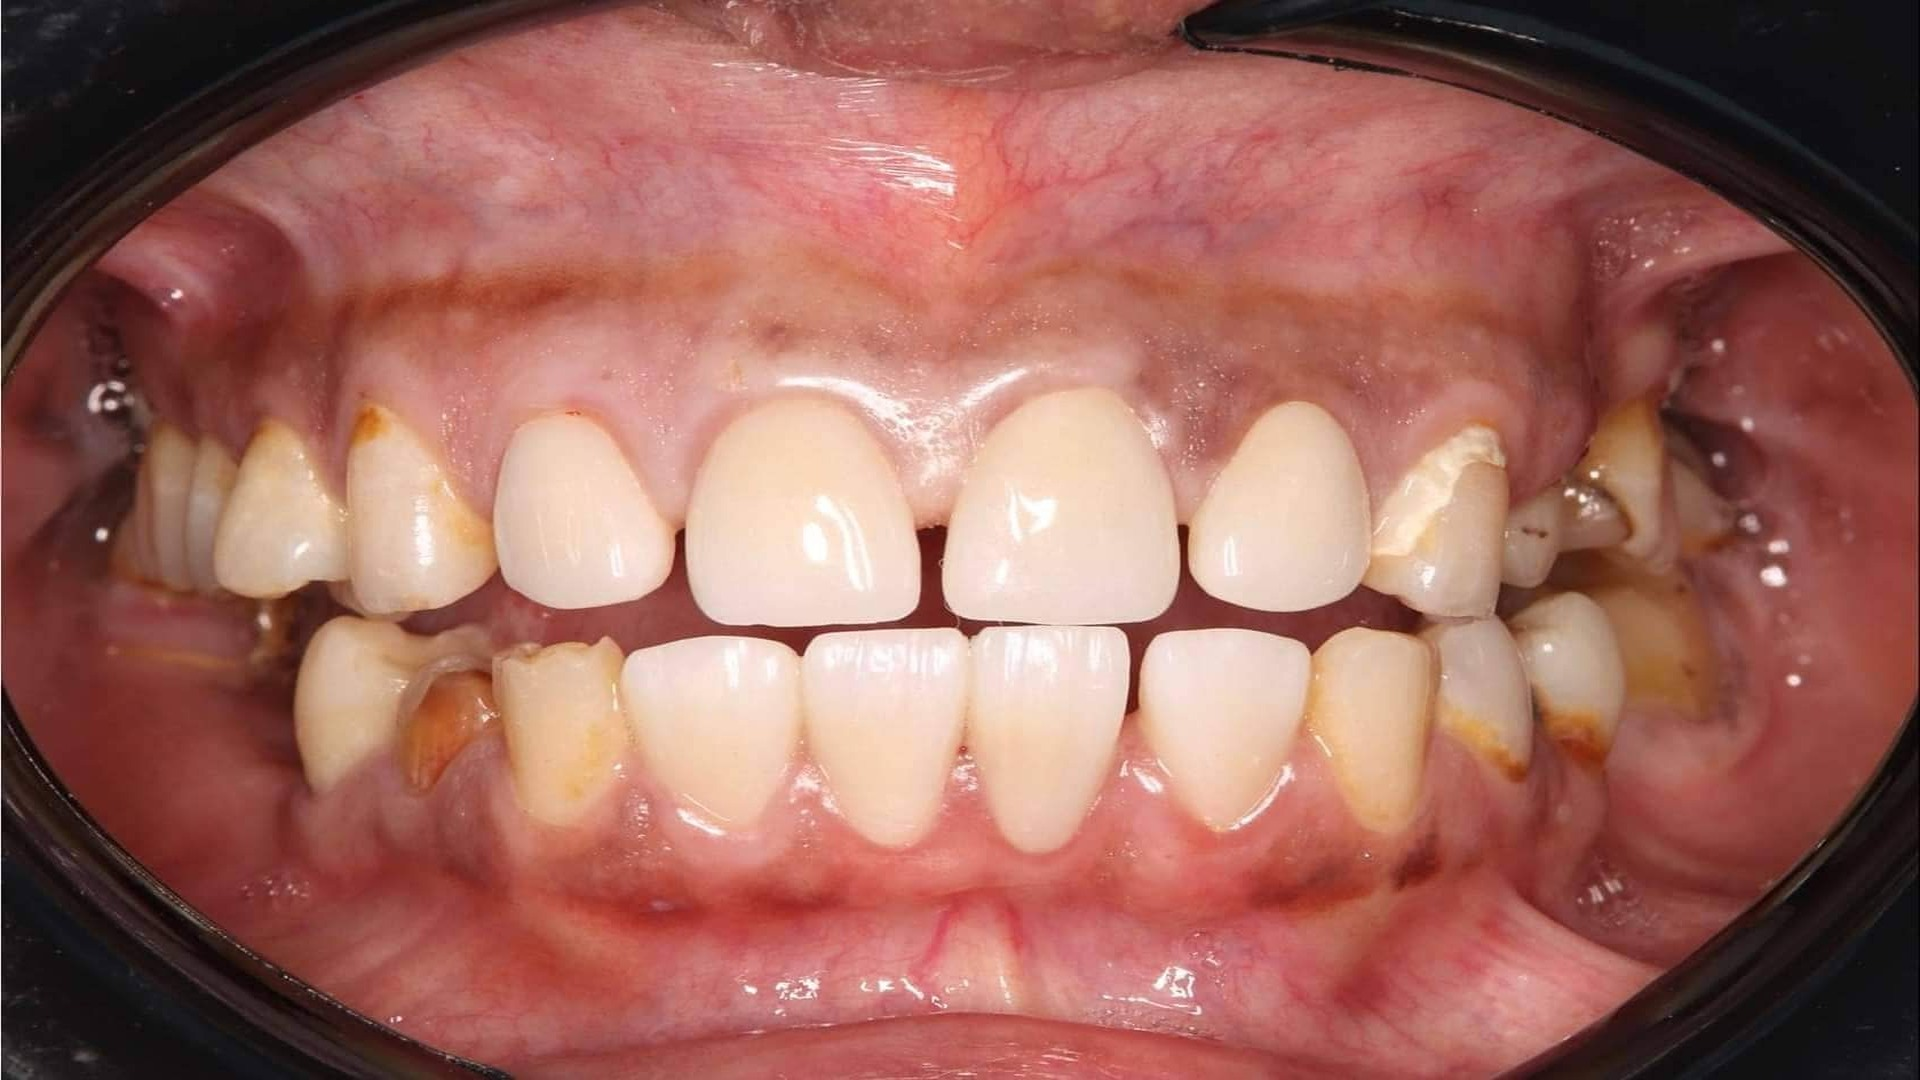tooth: (942, 386, 1181, 625), (684, 389, 921, 626), (1188, 401, 1372, 613), (964, 625, 1130, 855), (801, 628, 971, 848), (493, 409, 676, 609), (1137, 627, 1311, 832), (294, 617, 493, 793), (619, 635, 797, 831), (346, 405, 498, 620), (1306, 628, 1440, 834), (492, 636, 627, 828), (213, 417, 347, 599), (1505, 591, 1624, 763), (1435, 615, 1533, 782)
